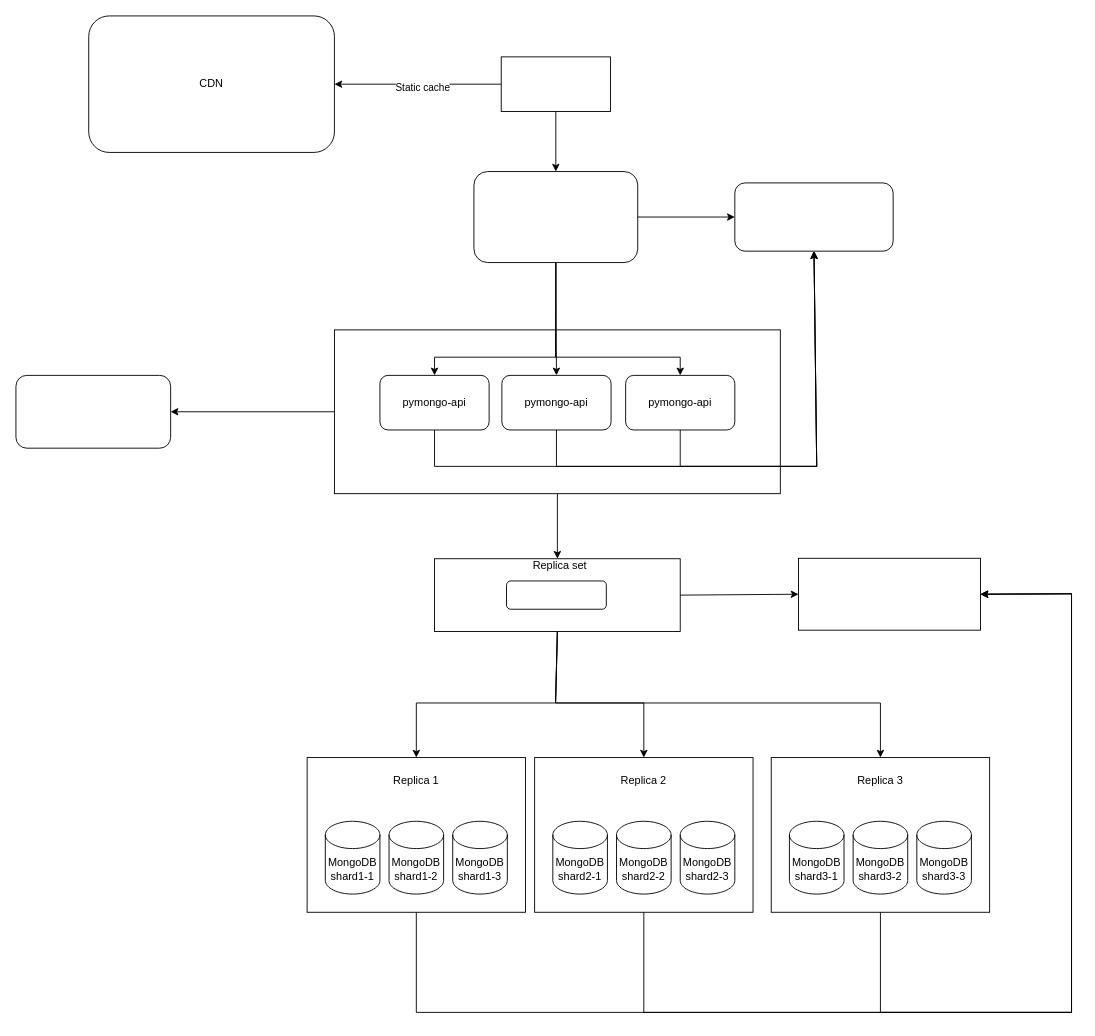
Some shapes in this 1095 by 1036 pixel diagram are drawn without their labels. Each missing label, with the box of its shape:
API Gateway: (473, 171, 638, 263)
Cache: (15, 374, 171, 448)
Clients: (500, 56, 610, 111)
Consul: (734, 182, 893, 251)
Mongo config: (798, 557, 981, 630)
Mongo router: (506, 580, 606, 609)
